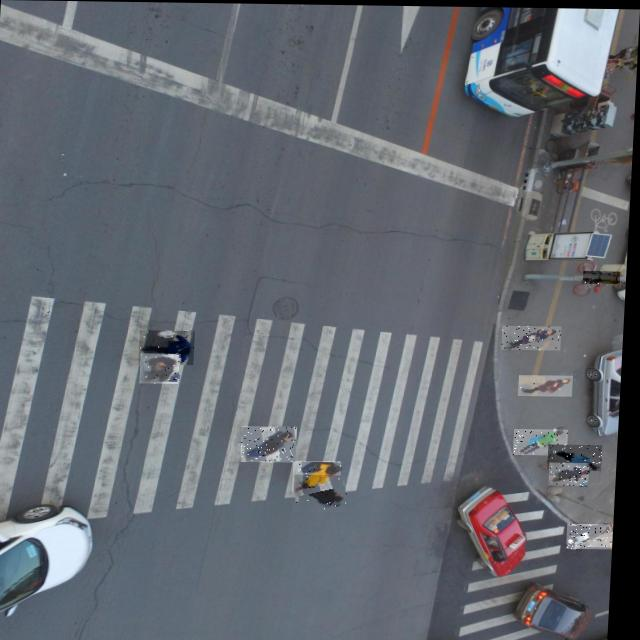Person: (244, 425, 301, 462), (297, 474, 352, 511), (140, 330, 197, 364), (296, 460, 345, 492), (504, 324, 564, 349), (517, 427, 572, 454), (551, 443, 606, 469), (142, 353, 183, 383), (521, 373, 576, 395), (571, 522, 619, 547), (553, 461, 594, 484), (585, 269, 622, 282)
